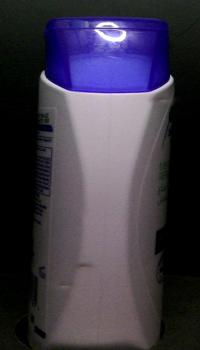dent_marginal: (42, 266, 86, 300), (66, 253, 107, 274), (144, 90, 175, 108)
